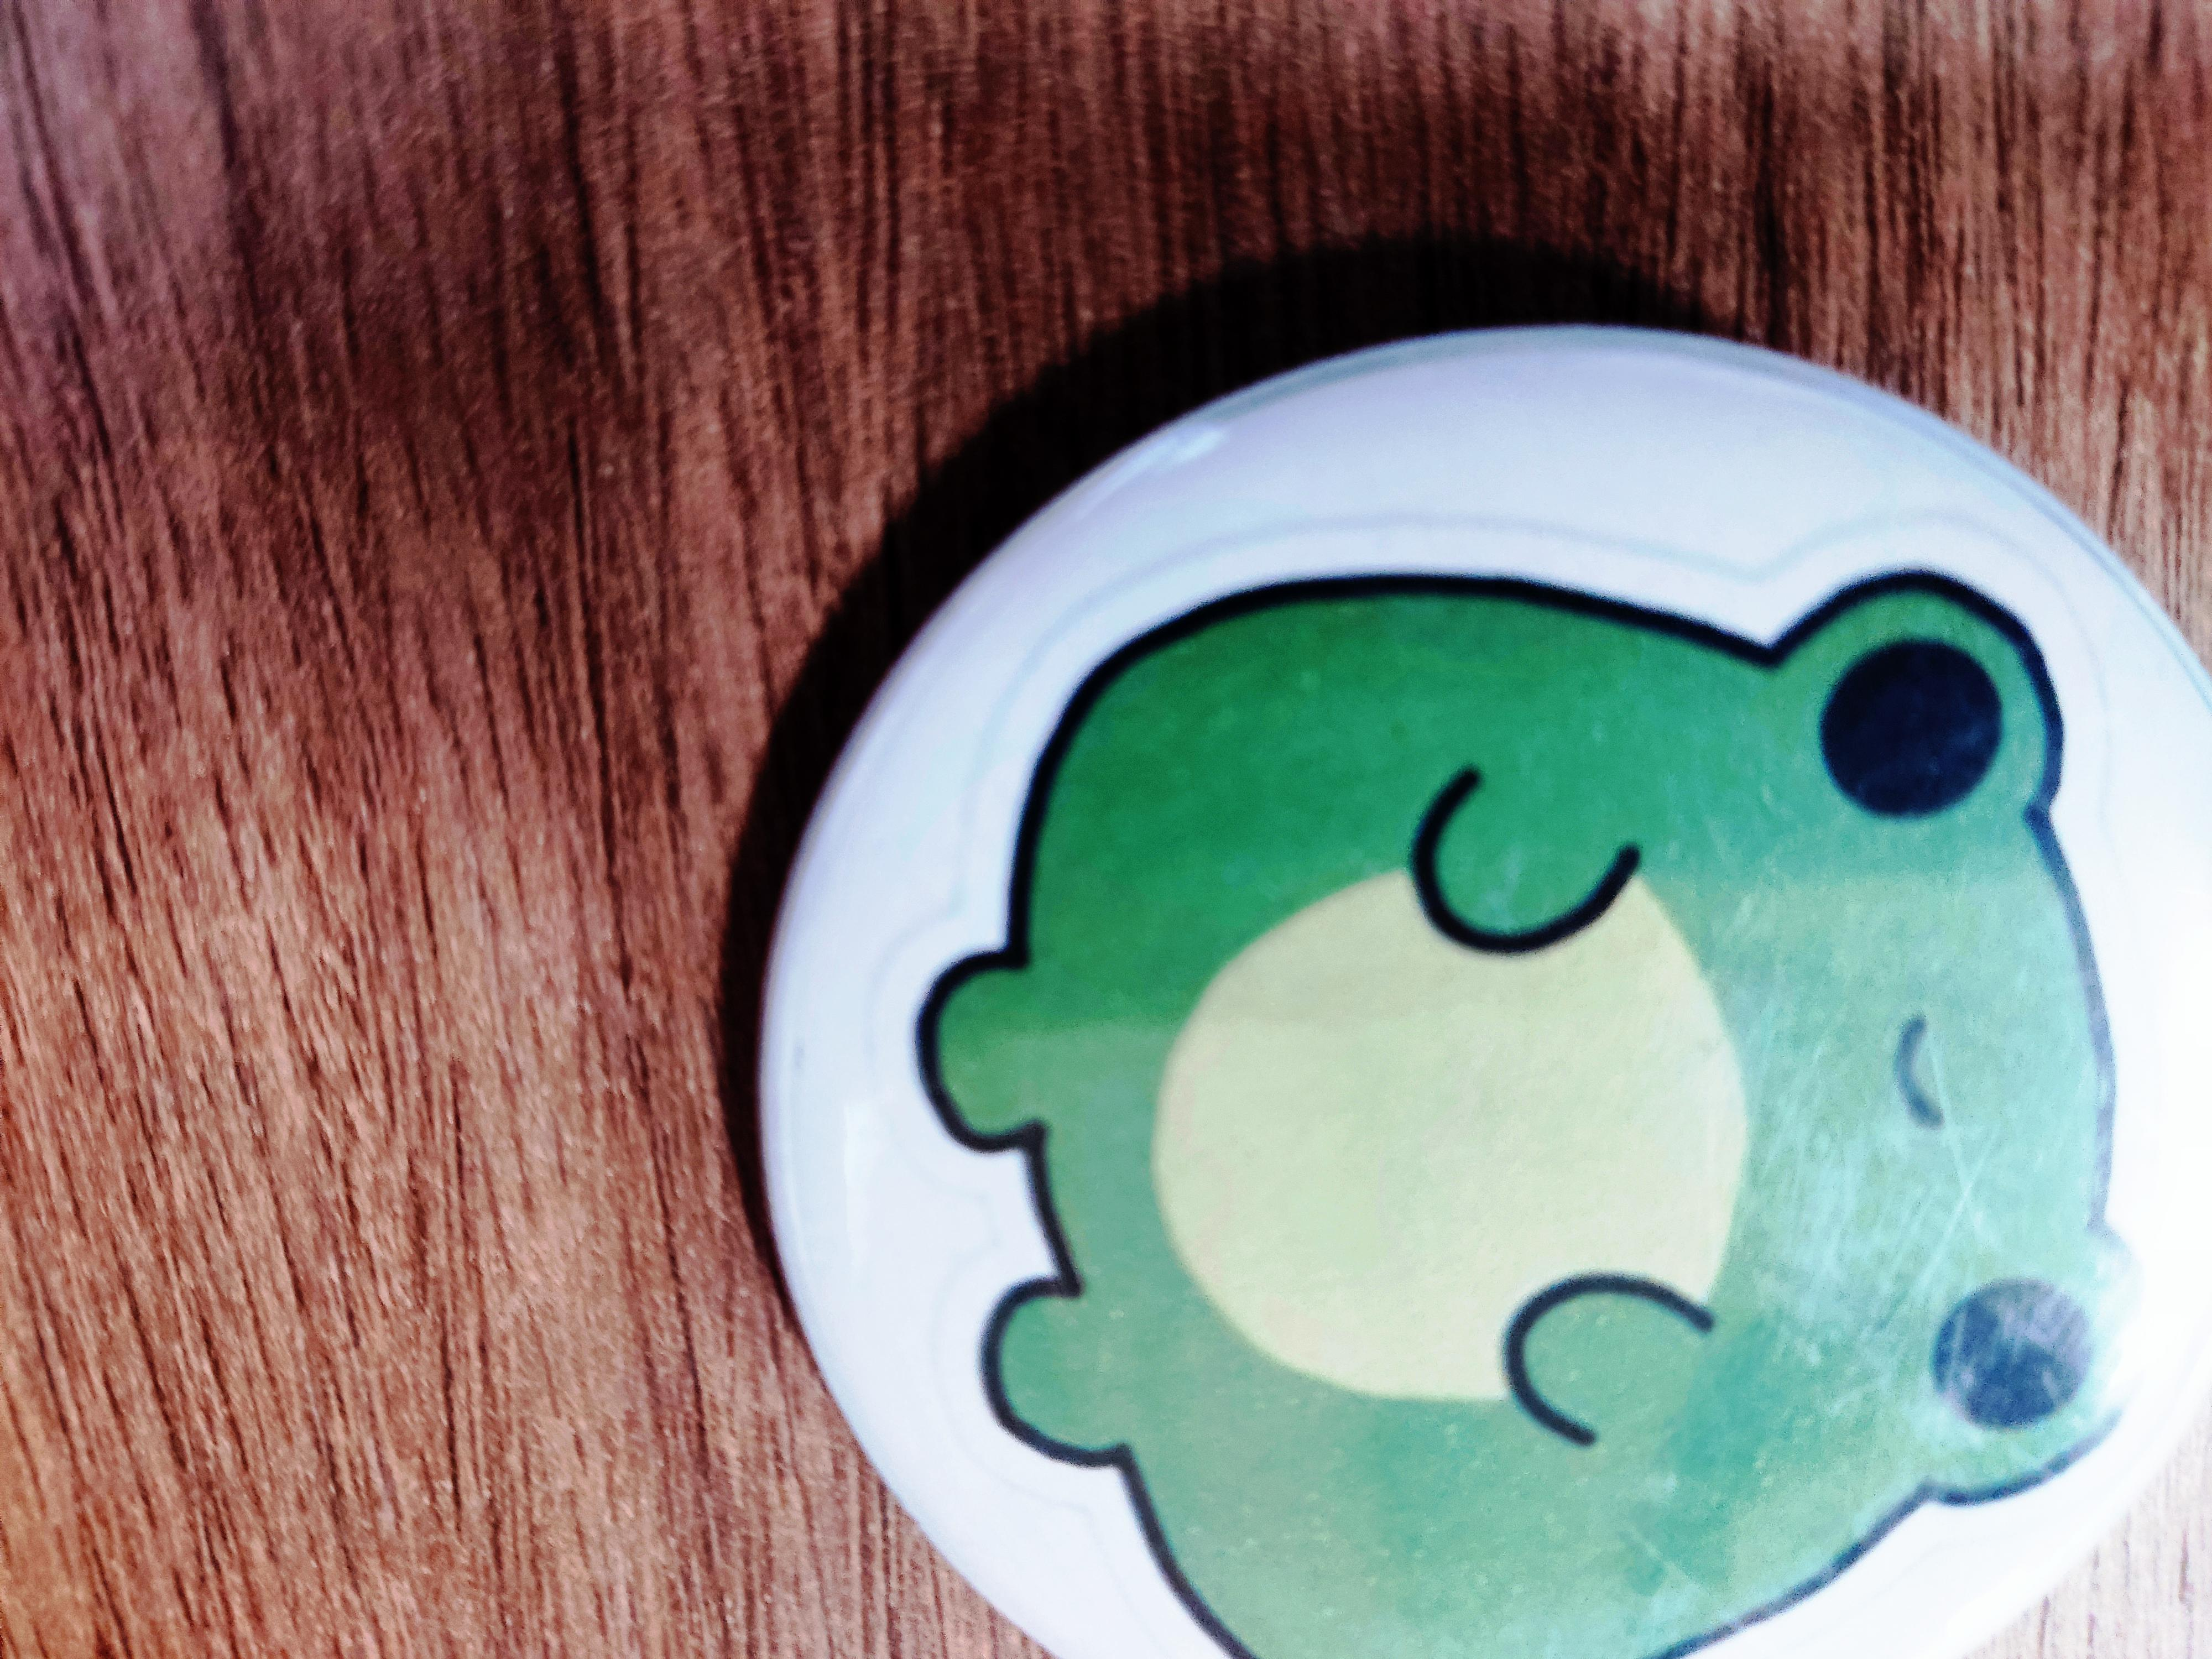pin: (740, 300, 2212, 1659)
